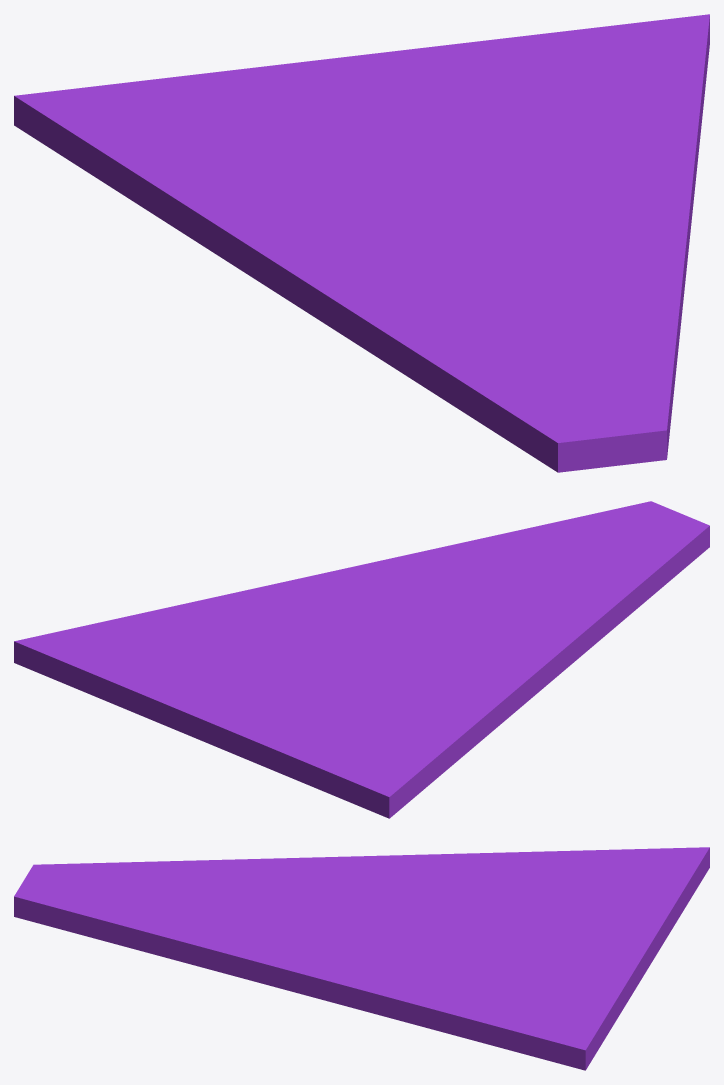
The model's file is StairsStep_49.fbx.
3 views of the same model, one above another, from view 1: azimuth 30°, elevation 25°; view 2: azimuth 150°, elevation 25°; view 3: azimuth 270°, elevation 25° (orthographic). The views are drawn at different scales.
Visible parts, largest first — view 1: StairsStep_49; view 2: StairsStep_49; view 3: StairsStep_49.
Boxes of the visible parts, x1,y1,x2,y2 form: StairsStep_49: (14,14,709,472); StairsStep_49: (14,501,709,818); StairsStep_49: (14,847,709,1070).
Bounding box in the file's own units: 384 × 17.94 × 556.
